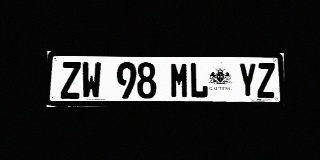8: (137, 62, 156, 98)
9: (117, 62, 136, 99)
L: (189, 62, 208, 98)
M: (170, 62, 189, 98)
W: (81, 62, 101, 99)
Y: (238, 63, 257, 98)
Z: (60, 62, 81, 99), (257, 63, 275, 98)
